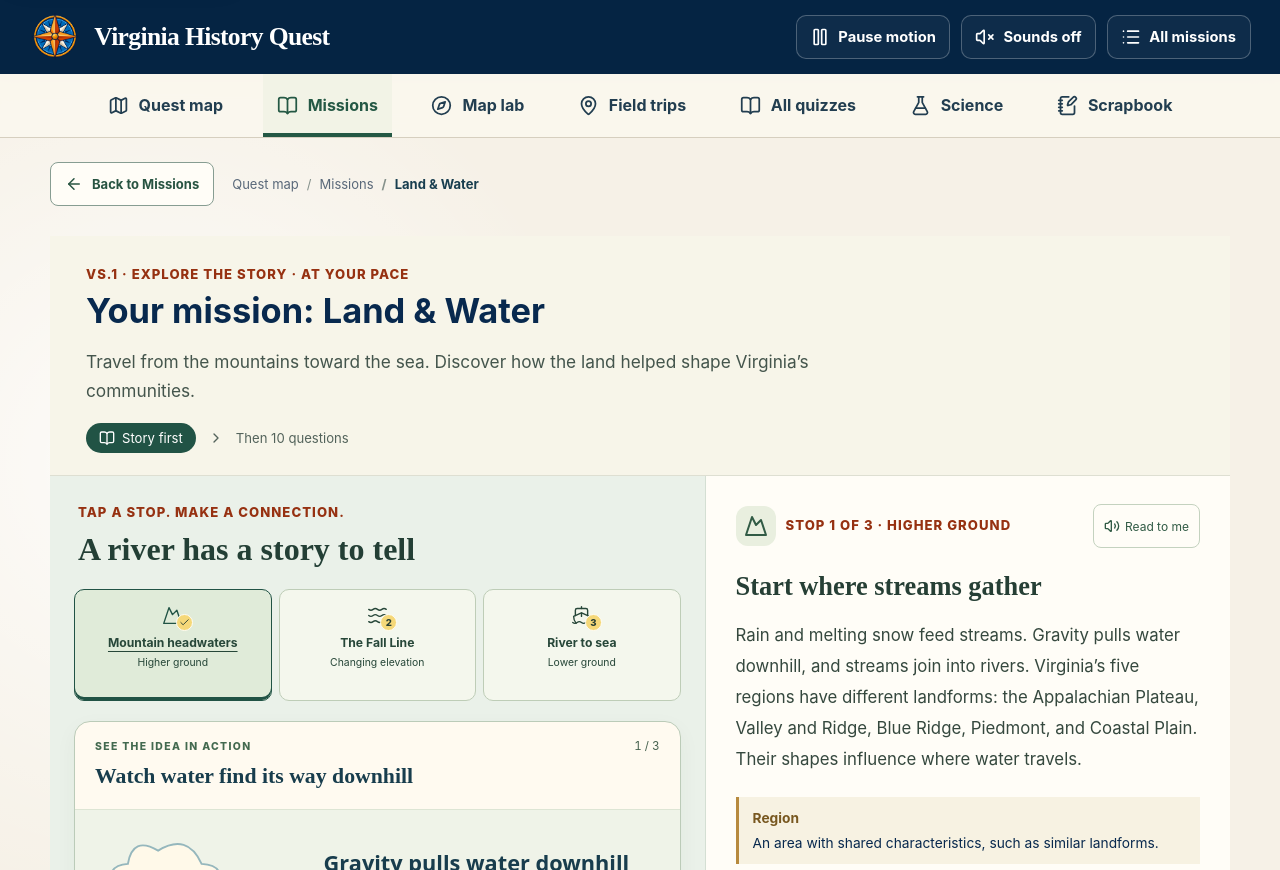
Test case: teaches VS.1 through all three interactive scenes before its questions
This screenshot has width=1280, height=870.
Expected: the heading "A river has a story to tell" is shown, [78, 531, 415, 567]
Expected: the heading "Your boat reaches the Fall Line. What might block its path?" is not shown
// Jump ahead: visiting the final scene alone must not bypass the middle scene.
What coordinates should you click on to do the following:
click the button "3 River to sea Lower ground"
I would click on:
 (582, 645)
Its box is [483, 589, 680, 701].
(page scrolled)
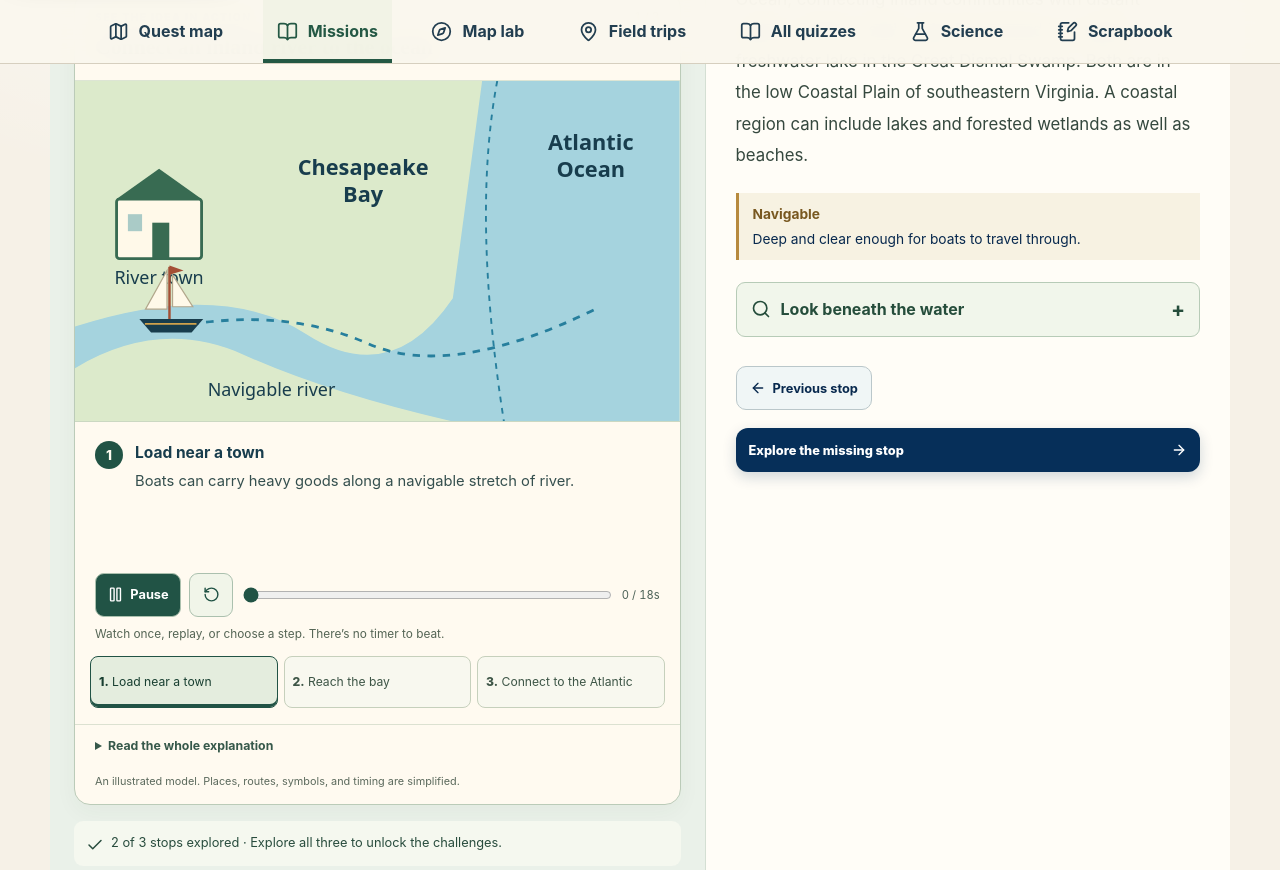
What coordinates should you click on to do the following:
click the button "Explore the missing stop"
I would click on:
 (826, 450)
Its box is [736, 428, 1200, 472].
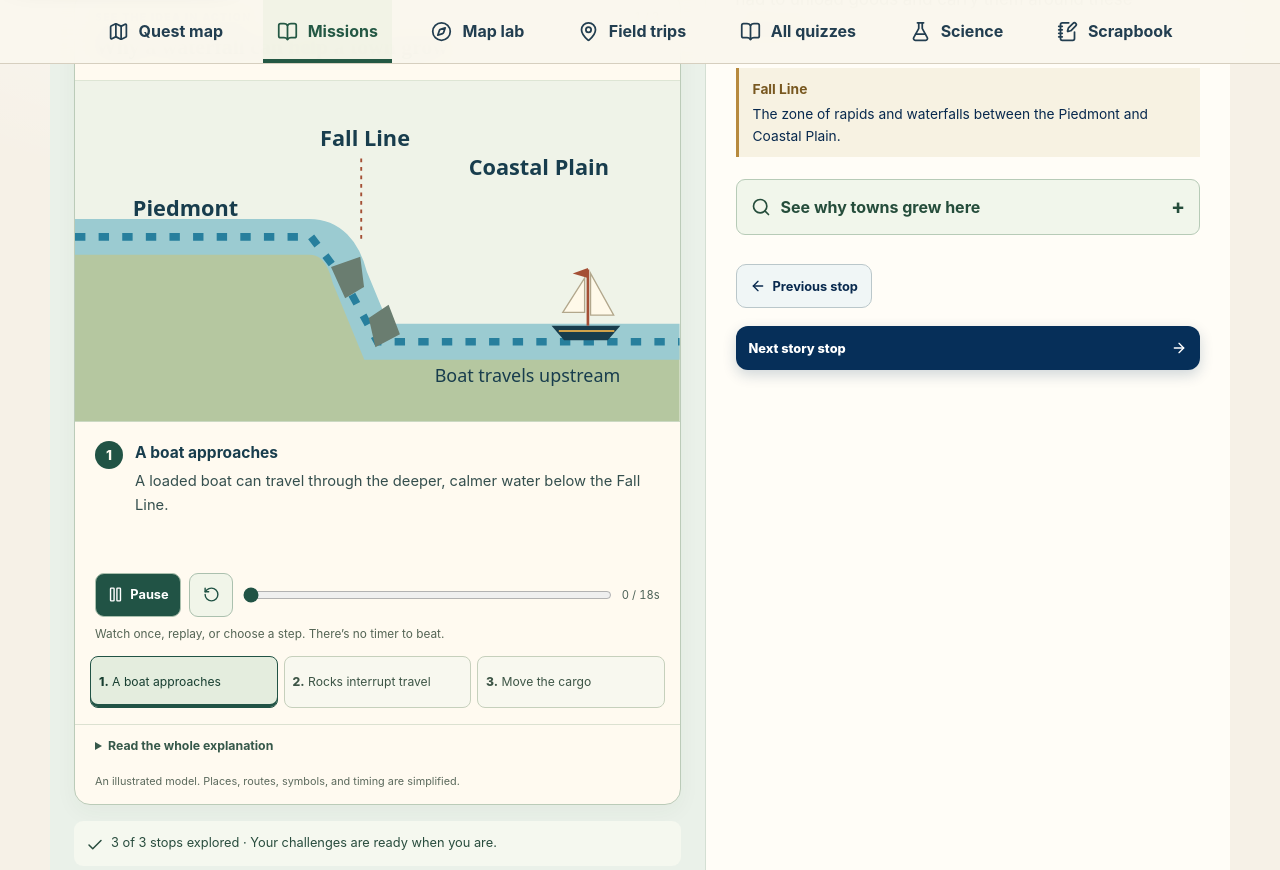
What coordinates should you click on to do the following:
click the button "See why towns grew here +"
I would click on:
 (968, 207)
Its box is [736, 179, 1200, 234].
(page scrolled)
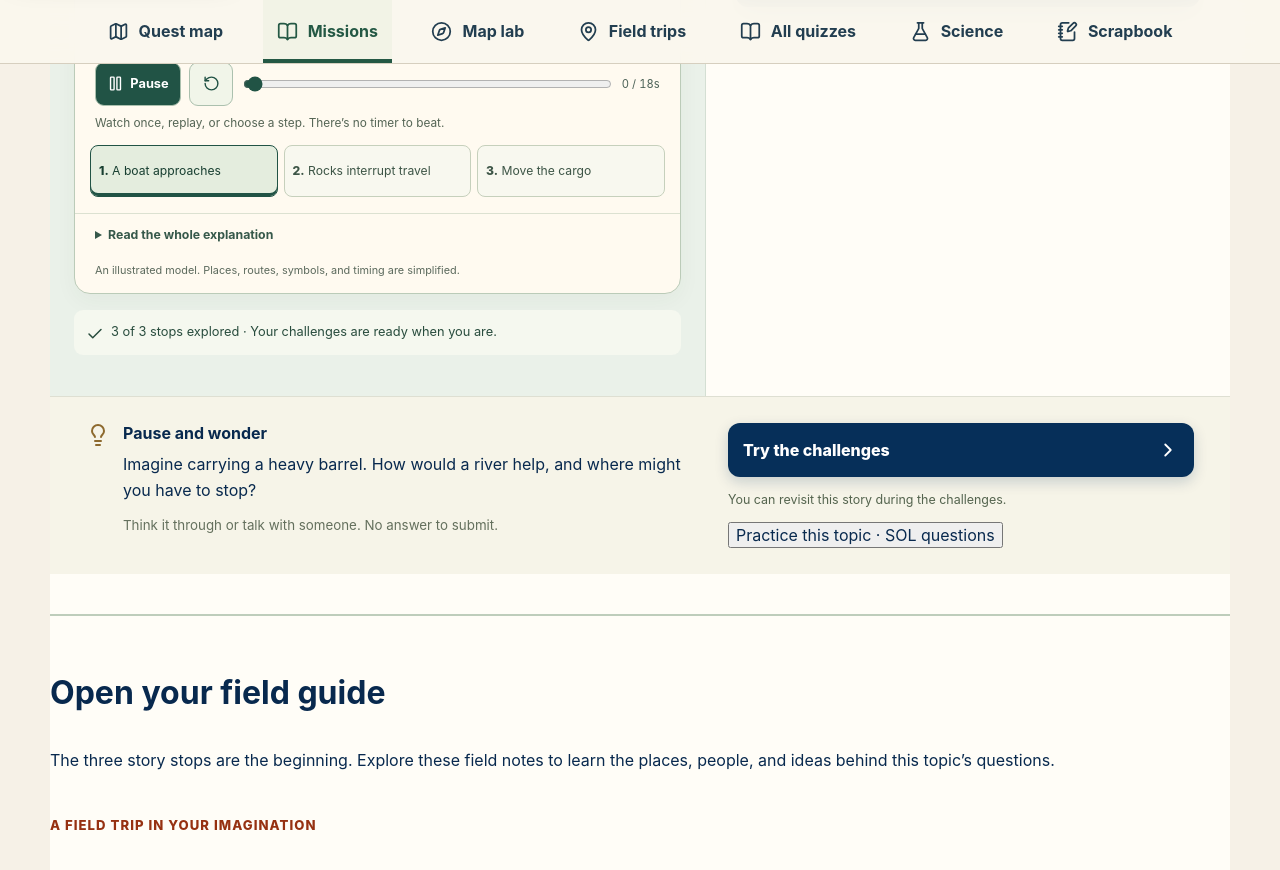
What coordinates should you click on to do the following:
click the button "Try the challenges"
I would click on:
 (816, 450)
Its box is [728, 423, 1194, 477].
(page scrolled)
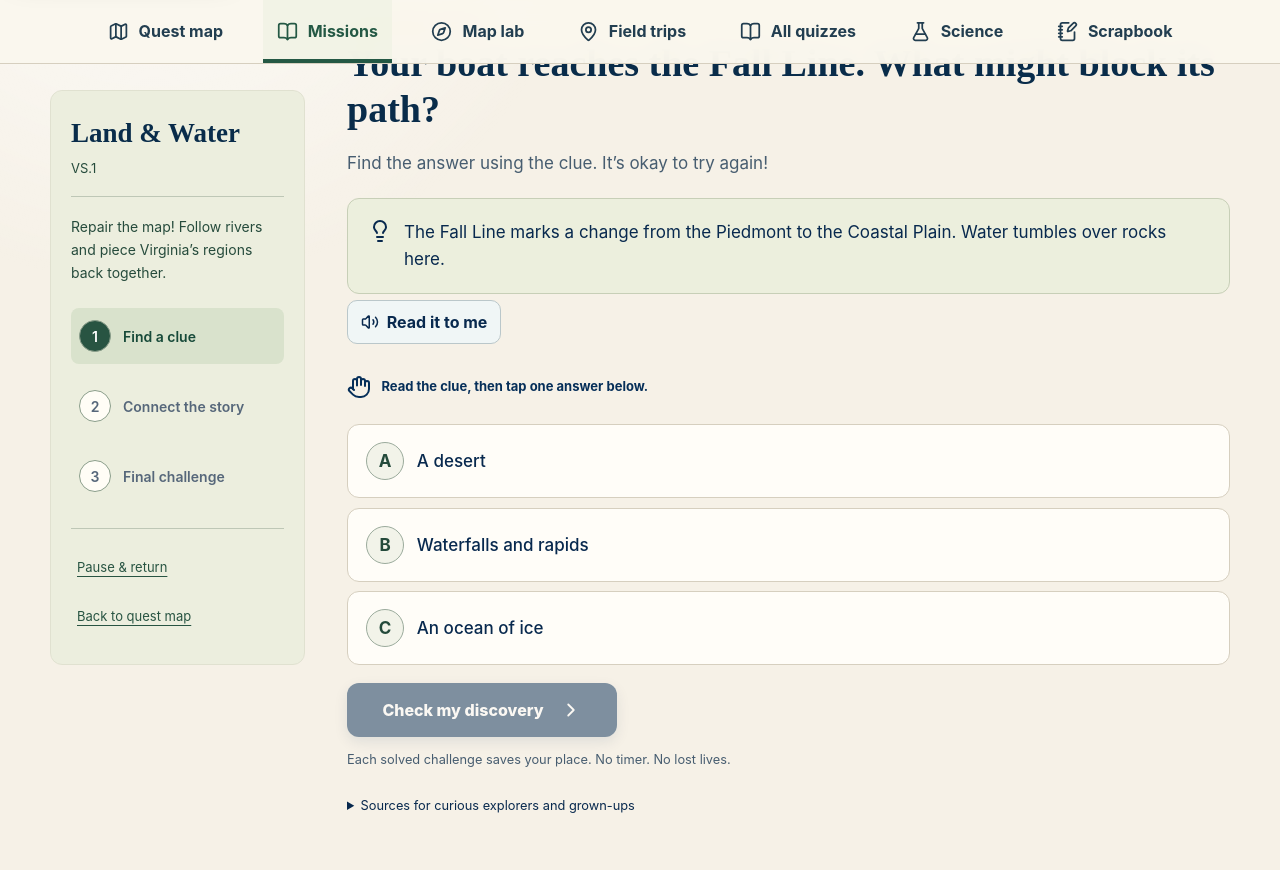
Now the heading "Your boat reaches the Fall Line. What might block its path?" is shown, box [347, 41, 1230, 133]
